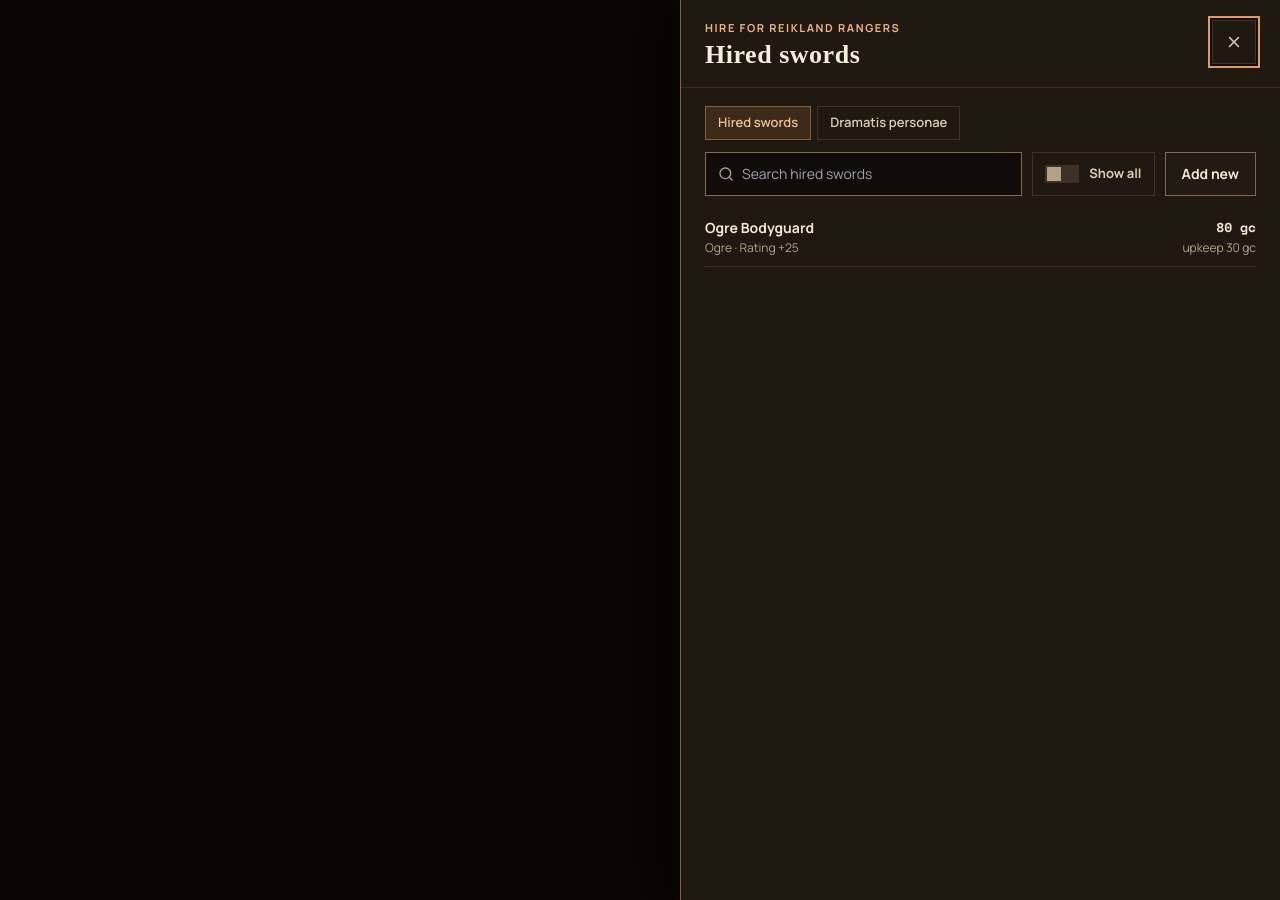
it: Add new in the hire drawer › only makes the new one for a viewer who can't hire for the warband
This screenshot has width=1280, height=900.
Click the button "Add new" at (1210, 174), box [1164,152,1256,196]
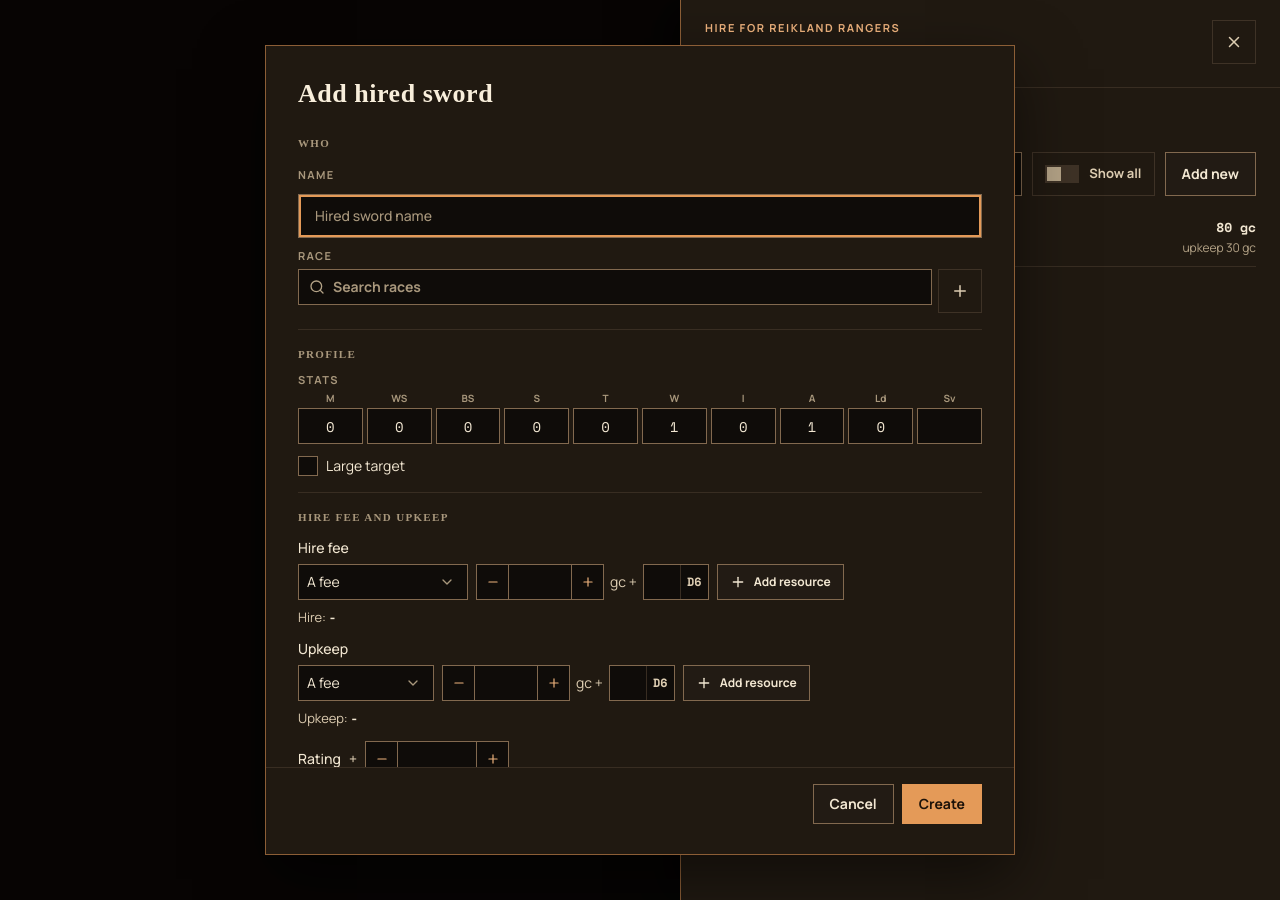
Type "Tilean Duellist" into the field labelled "Name" at (640, 216), box [298,194,982,238]
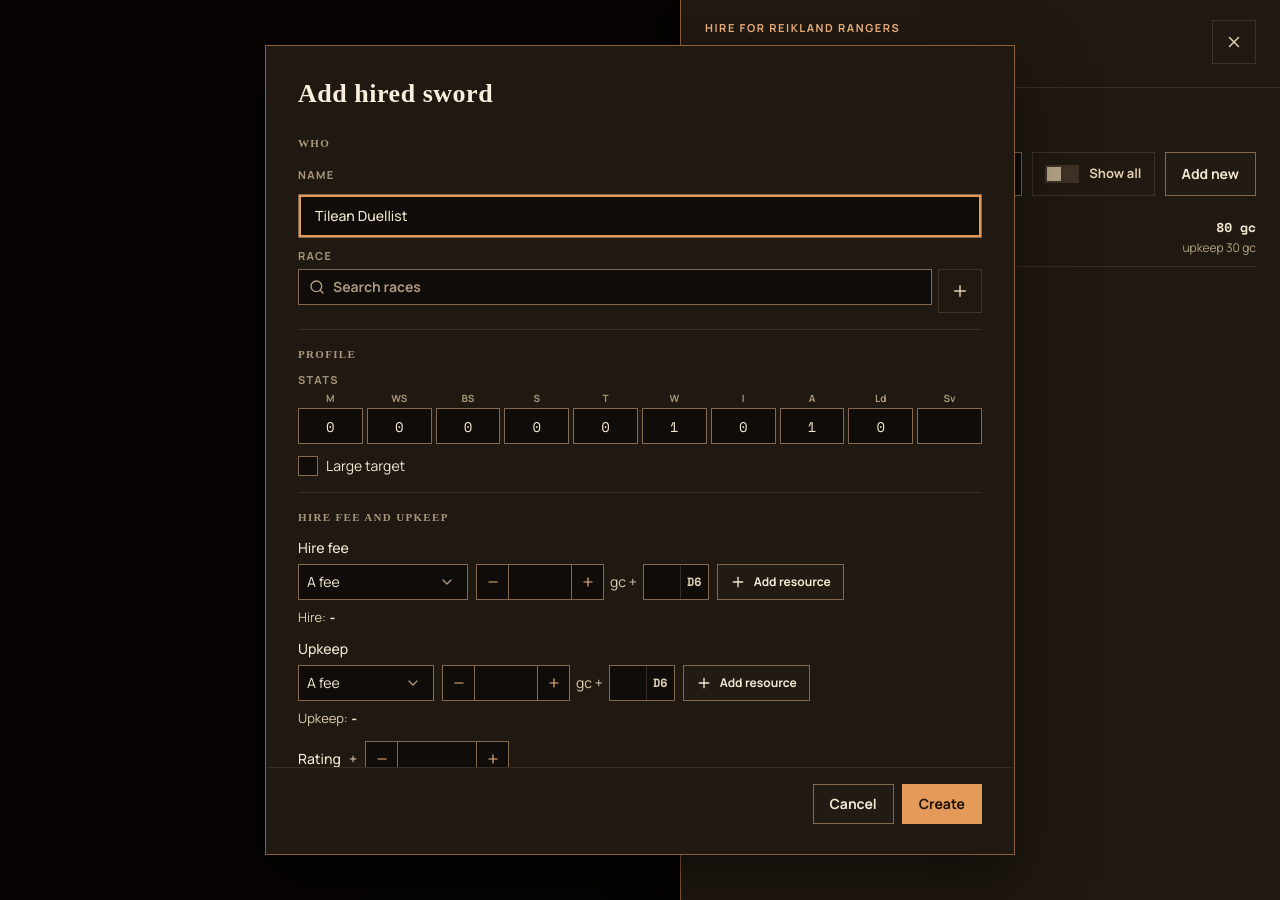
Click the button "Create" at (942, 804), box [902,784,982,824]
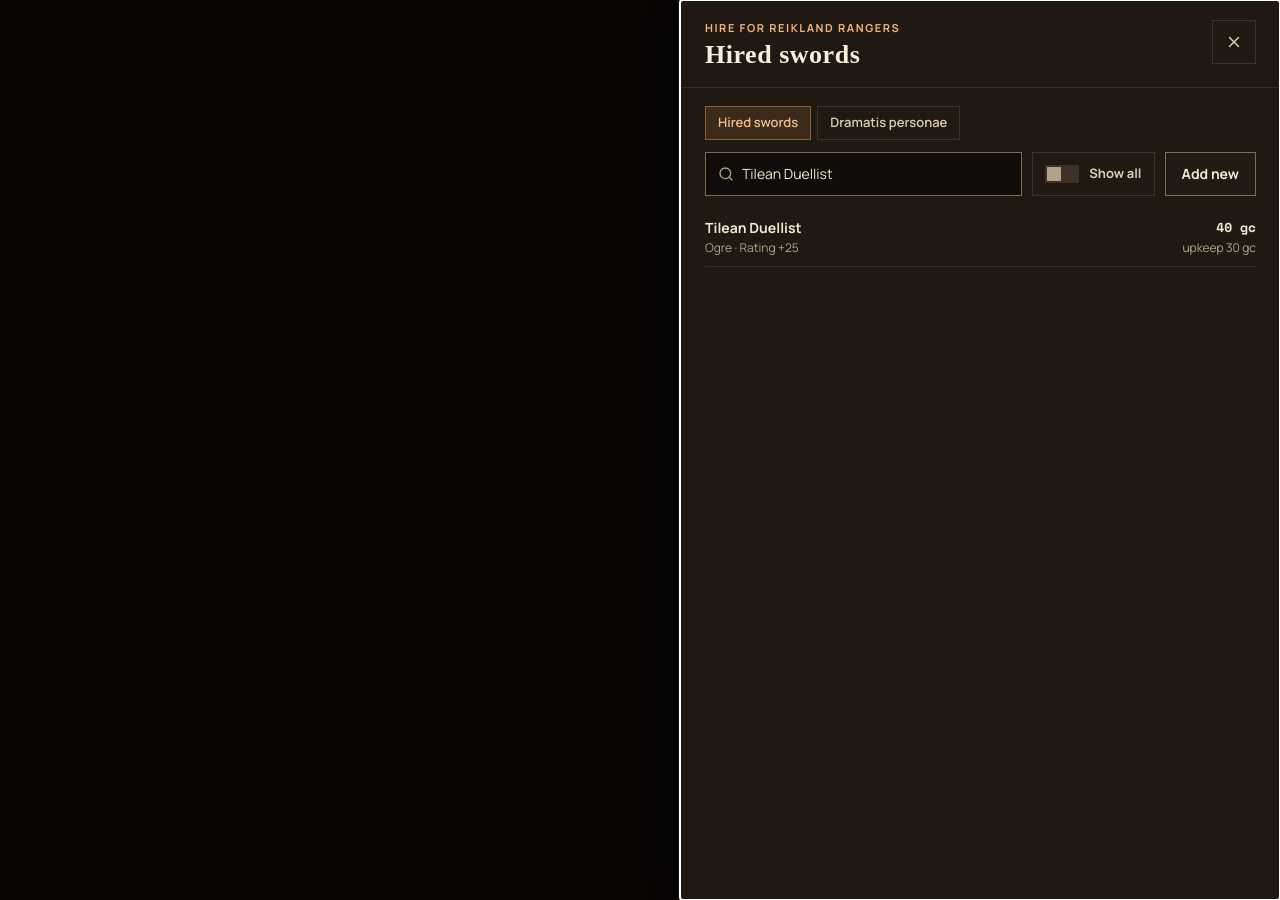
expect the heading "Add hired sword" is gone: met
